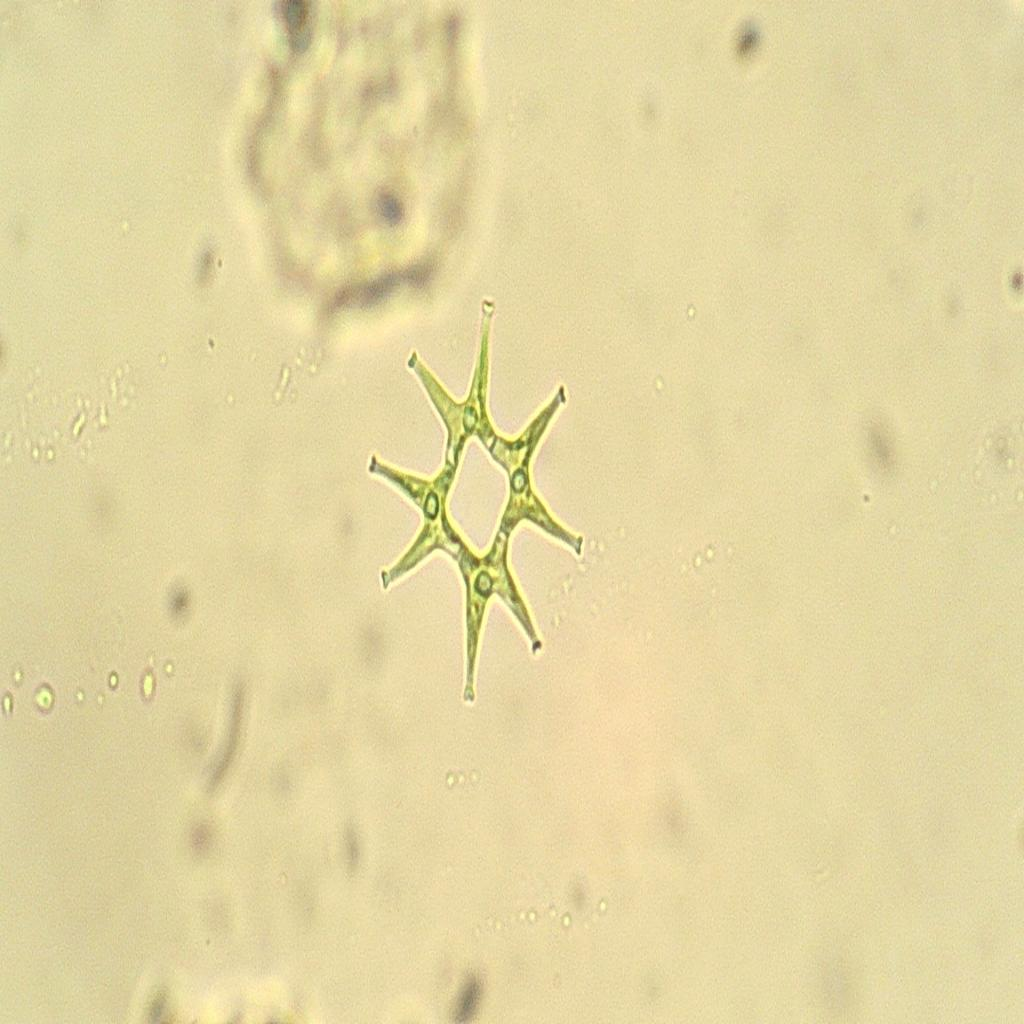Pediastrum_75O: (347, 277, 602, 722)
